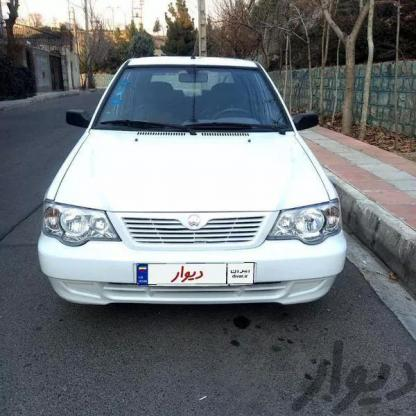Car: (32, 49, 349, 330)
